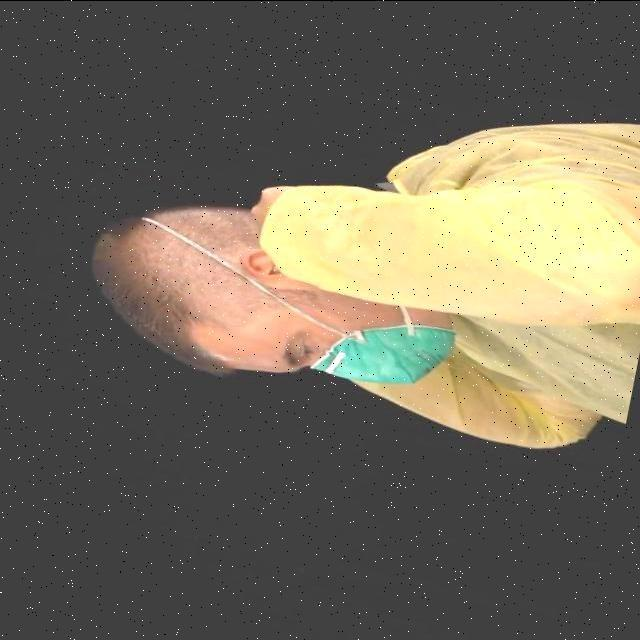mask: (315, 310, 463, 396)
no_gloves: (96, 228, 206, 368)
